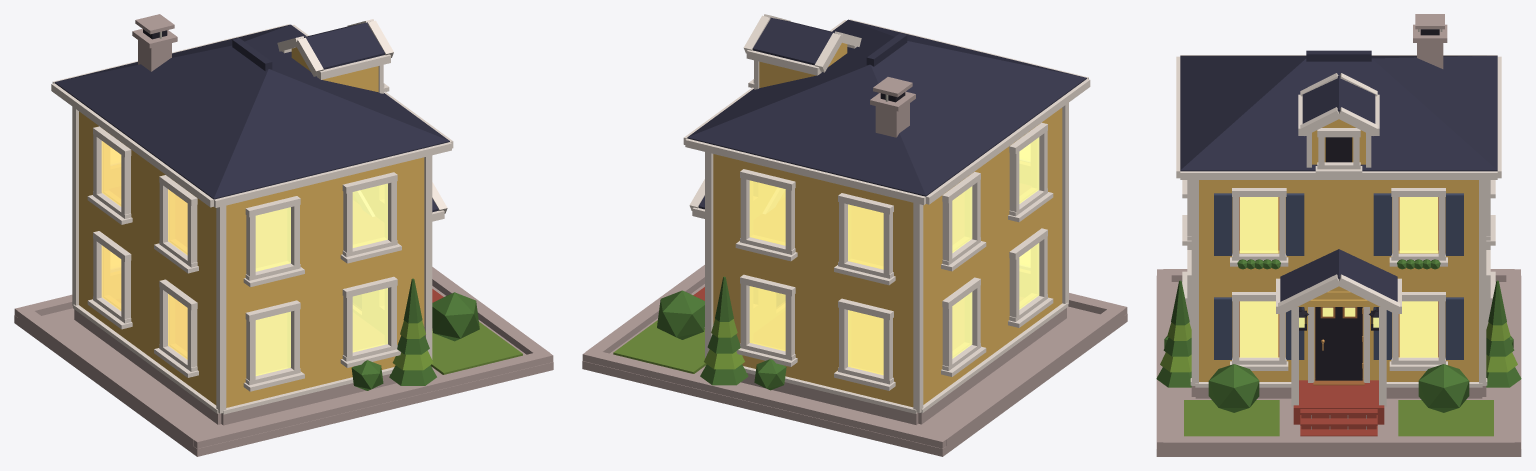
File: model.distance2.glb
3 renders of one model, left to right at view 1: azimuth 30°, elevation 25°; view 2: azimuth 150°, elevation 25°; view 3: azimuth 270°, elevation 25°, orthographic.
Parts seen in each view (by area): view 1: roof_pal_navy.001, body_pal_mustardLight.001, dressing_pal_sidewalk.001, body_pal_picketWhite.001, roof_pal_picketWhite.001, dressing_pal_foliageDark.001, body_pal_sidewalk.001, dressing_pal_grass.001, window_side-1_4.395_-1.35_pal_picketWhite, window_side-1_1.875_-1.35_pal_picketWhite, window_side-1_4.395_1.1_pal_picketWhite, window_side-1_1.875_1.1_pal_picketWhite (+15 smaller); view 2: body_pal_mustardLight.001, roof_pal_navy.001, dressing_pal_sidewalk.001, body_pal_picketWhite.001, roof_pal_picketWhite.001, dressing_pal_foliageDark.001, body_pal_sidewalk.001, dressing_pal_grass.001, window_side1_4.395_1.1_pal_picketWhite, window_side1_1.875_1.1_pal_picketWhite, window_side1_1.875_-1.35_pal_picketWhite, window_side1_4.395_-1.35_pal_picketWhite (+15 smaller); view 3: roof_pal_navy.001, body_pal_mustardLight.001, dressing_pal_sidewalk.001, roof_pal_picketWhite.001, dressing_pal_foliageDark.001, body_pal_picketWhite.001, dressing_pal_grass.001, body_pal_brick.001, door_front_pal_uiDark.001, window_front_4.395_1.75_pal_denim, window_front_4.395_-1.75_pal_denim, window_front_4.395_1.75_emi_windowGlow (+18 smaller).
Boxes of the visible parts, box(x1,y1,x2,y2) form: roof_pal_navy.001: box(54, 22, 449, 212); body_pal_mustardLight.001: box(79, 111, 424, 407); dressing_pal_sidewalk.001: box(14, 267, 553, 456); body_pal_picketWhite.001: box(72, 106, 432, 414); roof_pal_picketWhite.001: box(51, 19, 453, 221); dressing_pal_foliageDark.001: box(351, 278, 479, 390); body_pal_sidewalk.001: box(74, 309, 396, 425); dressing_pal_grass.001: box(430, 322, 522, 374); window_side-1_4.395_-1.35_pal_picketWhite: box(243, 196, 304, 287); window_side-1_1.875_-1.35_pal_picketWhite: box(243, 300, 304, 391); window_side-1_4.395_1.1_pal_picketWhite: box(340, 172, 401, 263); window_side-1_1.875_1.1_pal_picketWhite: box(340, 276, 400, 367); body_pal_mustardLight.001: box(713, 107, 1062, 407); roof_pal_navy.001: box(687, 17, 1086, 209); dressing_pal_sidewalk.001: box(582, 265, 1127, 456); body_pal_picketWhite.001: box(705, 103, 1068, 413); roof_pal_picketWhite.001: box(683, 14, 1090, 218); dressing_pal_foliageDark.001: box(657, 276, 786, 390); body_pal_sidewalk.001: box(741, 308, 1066, 424); dressing_pal_grass.001: box(613, 320, 706, 373); window_side1_4.395_1.1_pal_picketWhite: box(735, 169, 797, 261); window_side1_1.875_1.1_pal_picketWhite: box(736, 274, 797, 366); window_side1_1.875_-1.35_pal_picketWhite: box(834, 298, 895, 390); window_side1_4.395_-1.35_pal_picketWhite: box(834, 193, 895, 285); roof_pal_navy.001: box(1180, 50, 1497, 301); body_pal_mustardLight.001: box(1199, 180, 1478, 381); dressing_pal_sidewalk.001: box(1156, 269, 1521, 456); roof_pal_picketWhite.001: box(1176, 55, 1501, 313); dressing_pal_foliageDark.001: box(1156, 259, 1521, 412); body_pal_picketWhite.001: box(1190, 180, 1487, 406); dressing_pal_grass.001: box(1184, 400, 1493, 436); body_pal_brick.001: box(1293, 380, 1384, 436); door_front_pal_uiDark.001: box(1315, 307, 1362, 380); window_front_4.395_1.75_pal_denim: box(1373, 193, 1463, 255); window_front_4.395_-1.75_pal_denim: box(1214, 193, 1304, 255); window_front_4.395_1.75_emi_windowGlow: box(1399, 197, 1437, 253).
Size of the model in its own units: 9 by 7.5 by 8.02.
